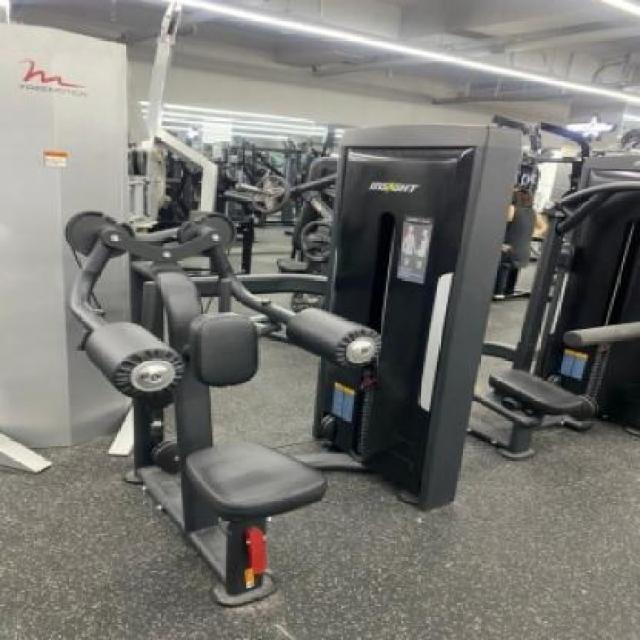lateral raises machine: (58, 201, 384, 614)
